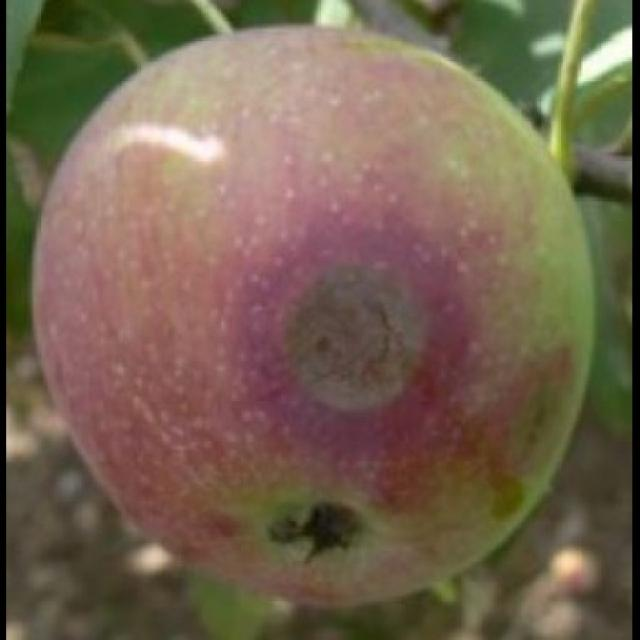Rotten Apple: (28, 22, 598, 610)
